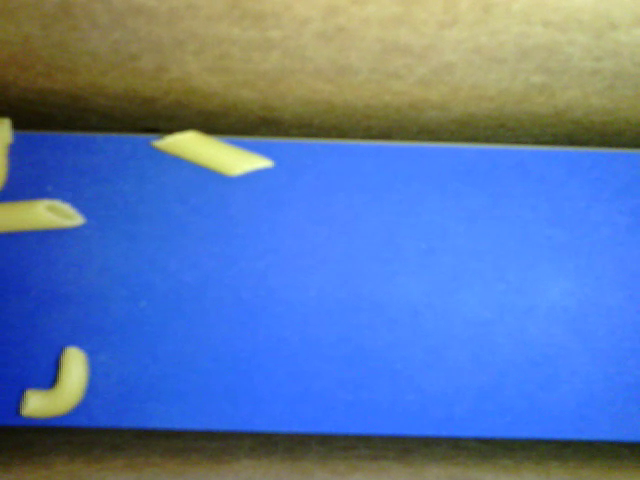elbow: (19, 346, 88, 418)
penne: (150, 129, 274, 178), (1, 198, 87, 231)
